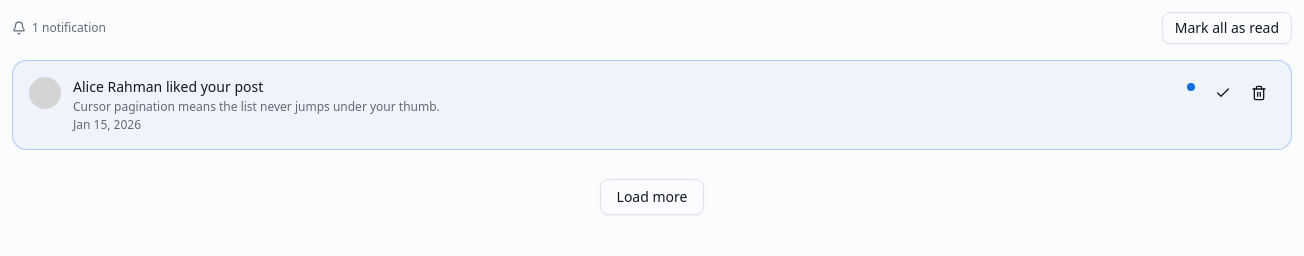
Test: NotificationList › reports a failed next page without losing the rows already read
Expected: the text "Alice Rahman liked your post" is shown, 73,77 -> 263,96
Click the button "Load more" at (652, 197), box 600,179 -> 704,215
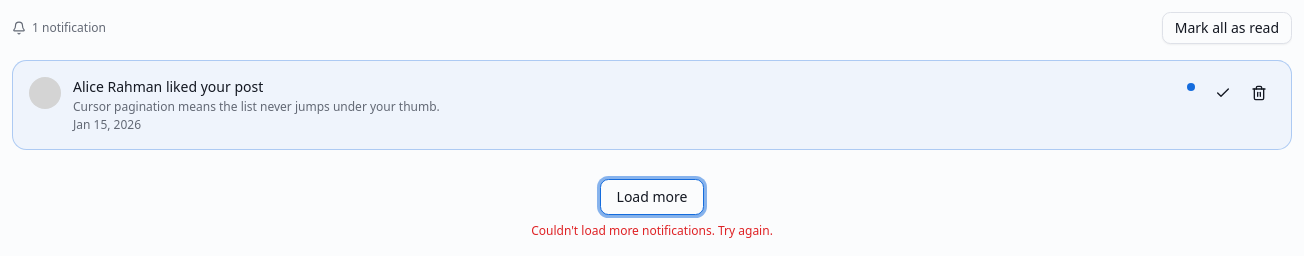
Expected: the text "Alice Rahman liked your post" is shown, 73,77 -> 263,96
Expected: the text "Couldn't load more notifications. Try again." is shown, 531,223 -> 773,239
